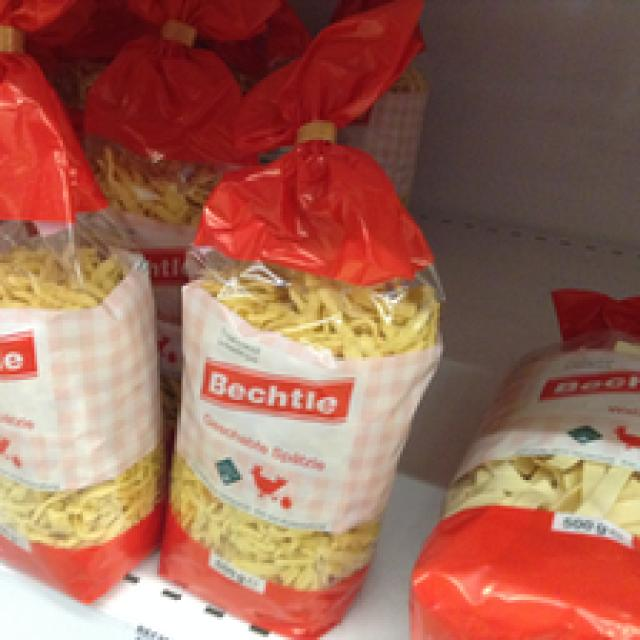groceries: (157, 129, 443, 637), (0, 31, 157, 600), (412, 286, 637, 631)
